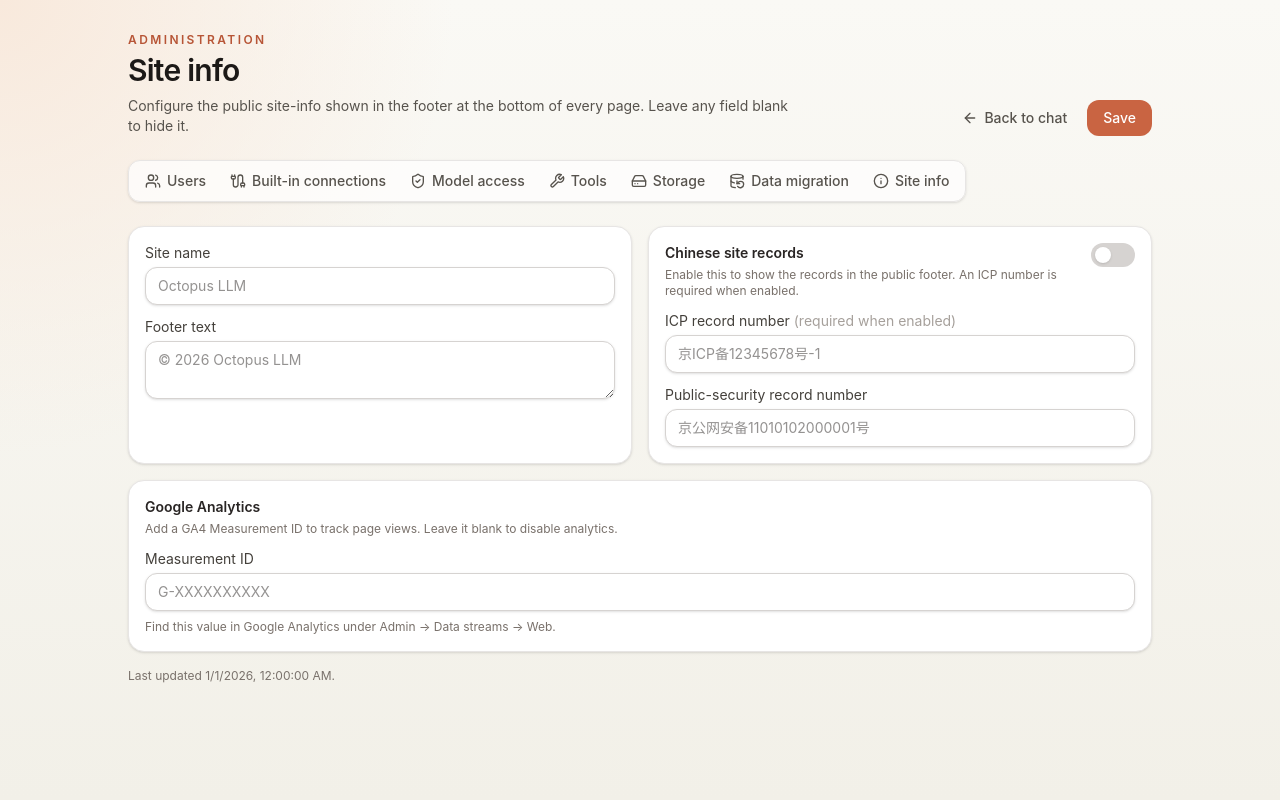
it: SiteSettingsPage › requires an ICP record number before enabling Chinese filing information
The width and height of the screenshot is (1280, 800).
Step 1. Click the switch named "Show Chinese filing information" → (1113, 255), box [1091,243,1135,267]
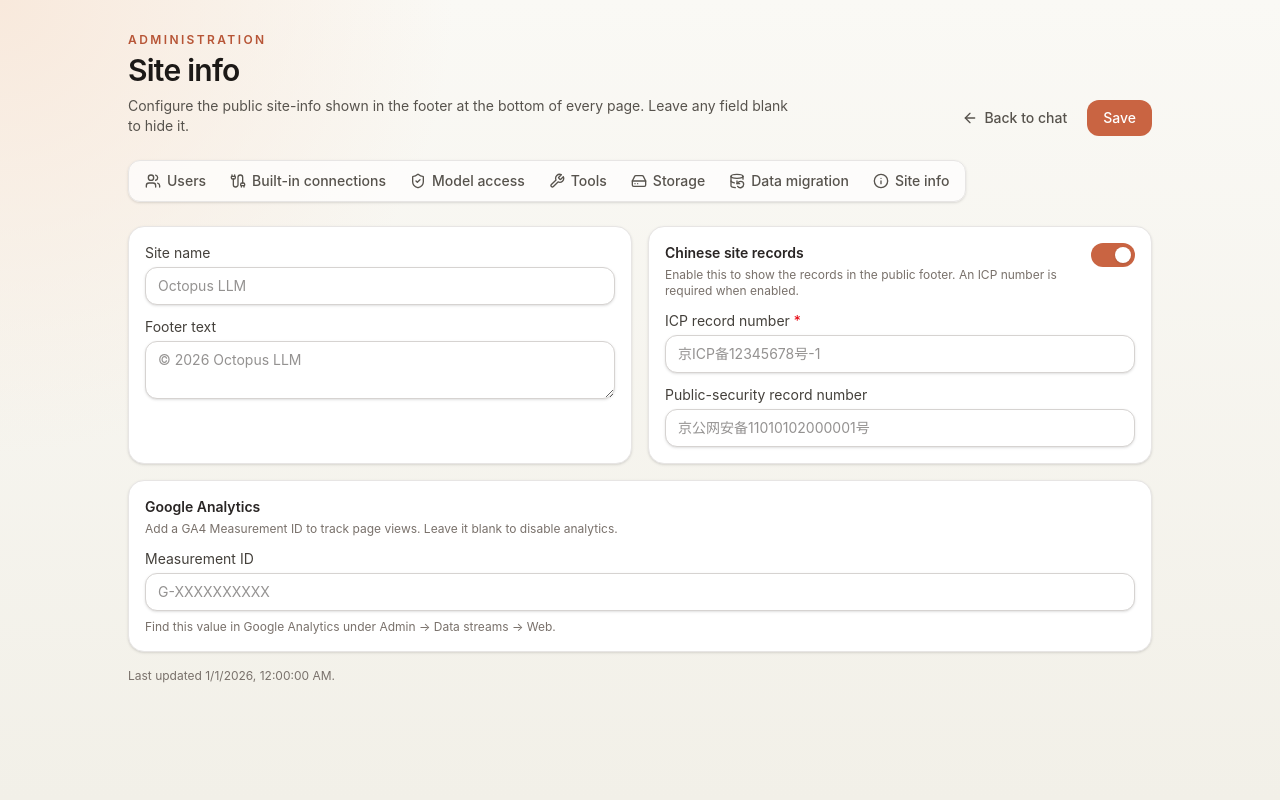
Step 2. Click the button "Save" → (1120, 118), box [1087,100,1152,136]
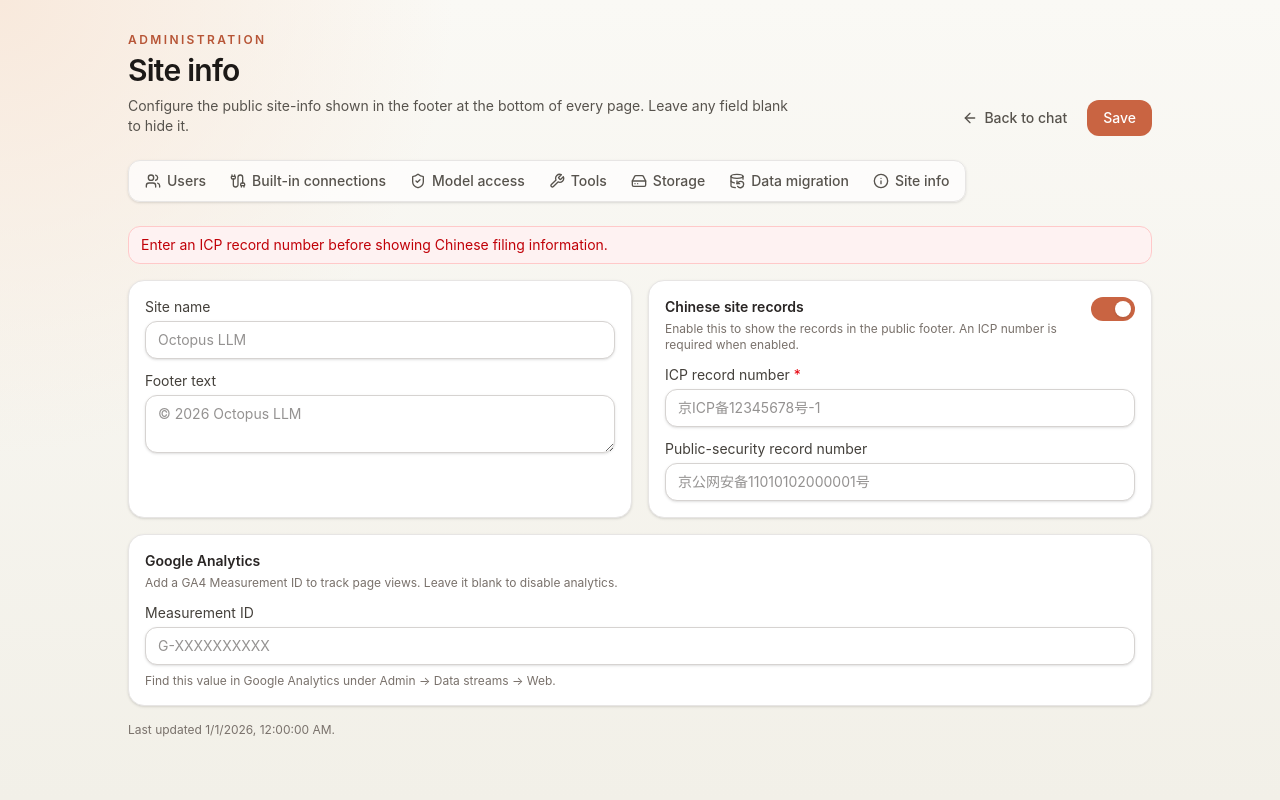
Now the text "Enter an ICP record number" is shown, box [141,236,608,253]
